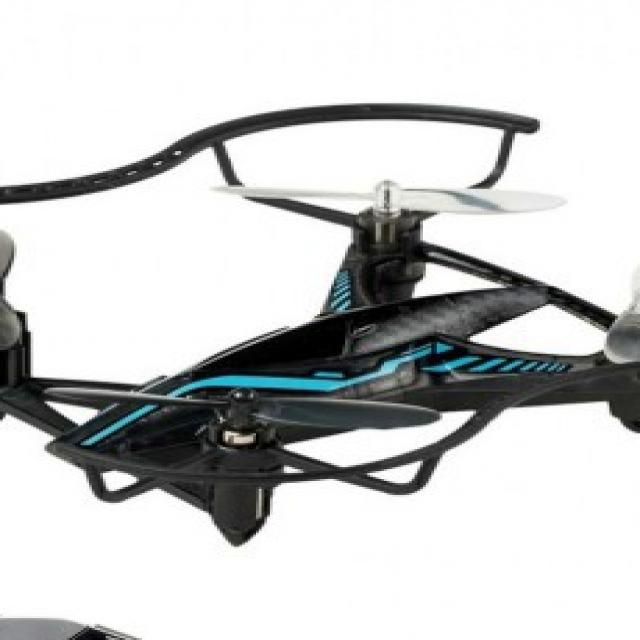drone: (0, 111, 640, 513)
